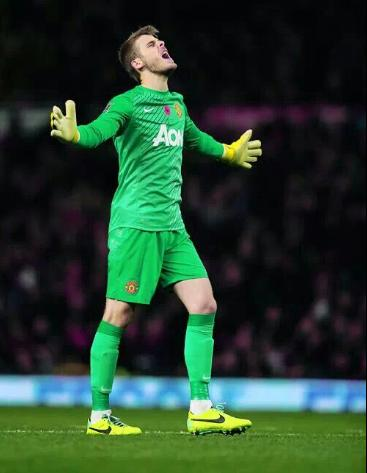goalkeeper: (46, 9, 289, 455)
